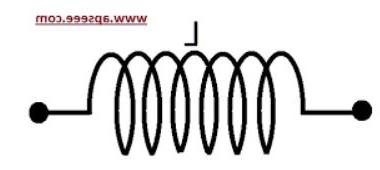inductor: (76, 42, 323, 159)
